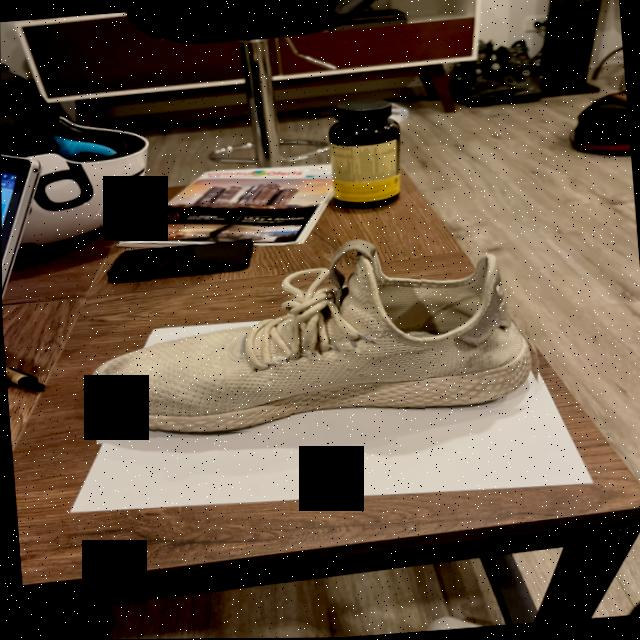shoe: (82, 225, 547, 444)
